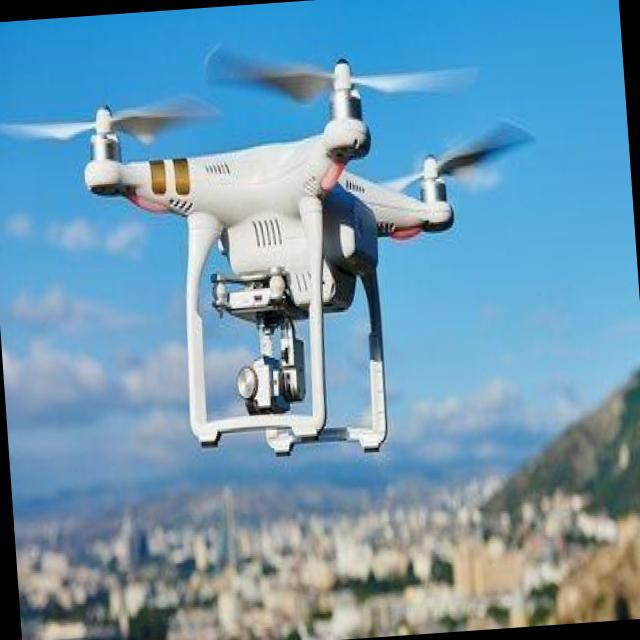drone: (73, 49, 470, 475)
